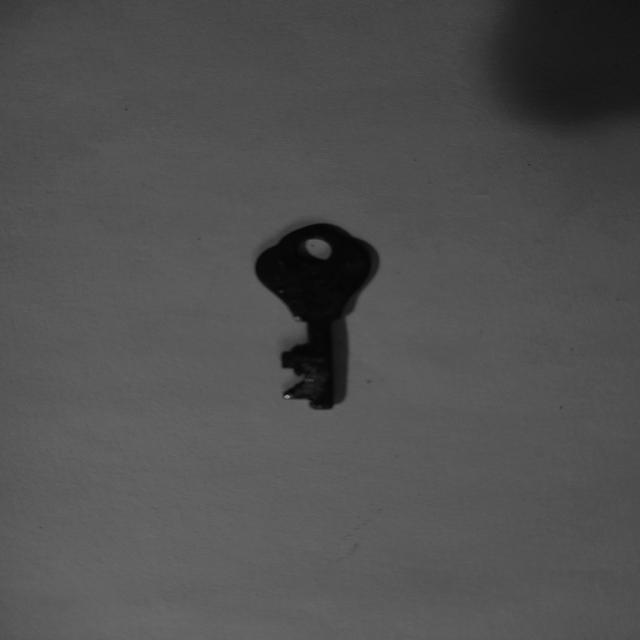KEY: (256, 224, 371, 409)
